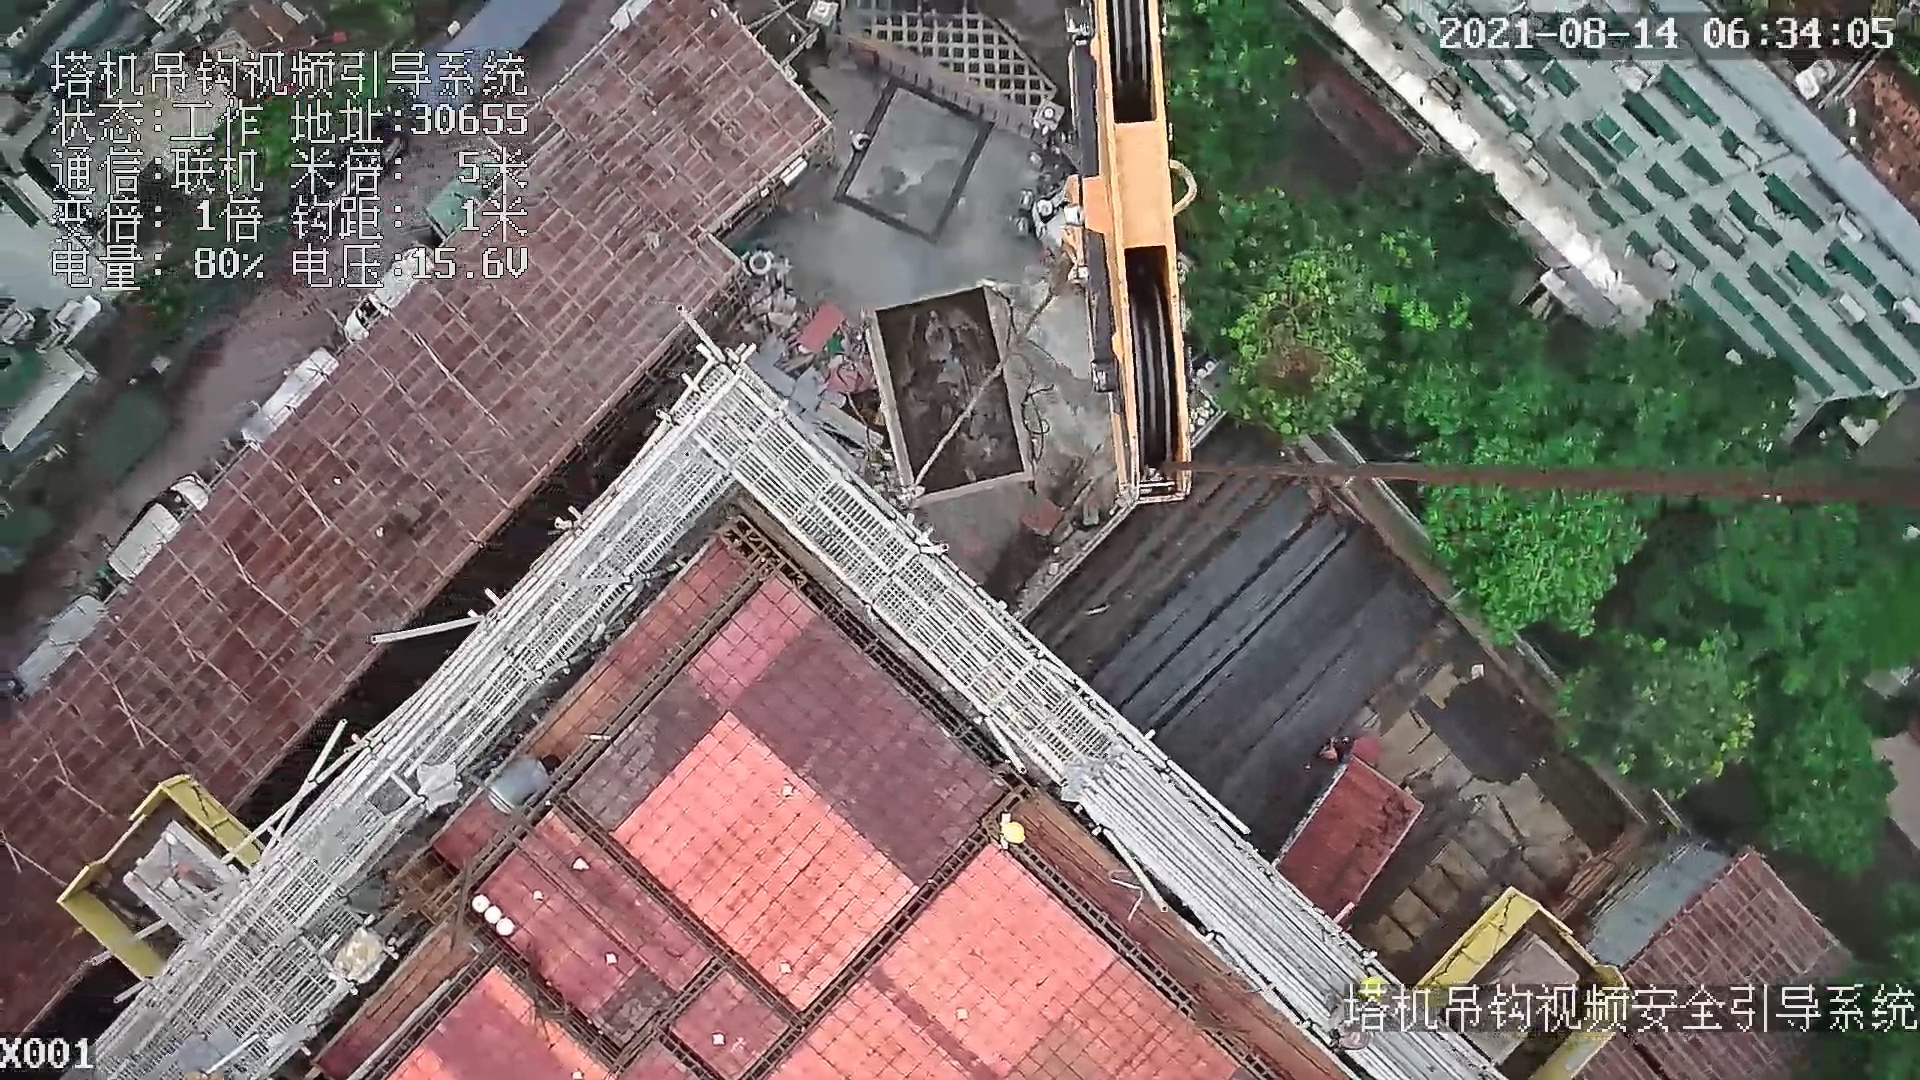helmet: (1002, 822, 1027, 844)
hook: (1056, 4, 1206, 510)
hopper: (858, 278, 1038, 505)
person: (1318, 956, 1387, 1053)
rebar: (1105, 512, 1391, 785)
